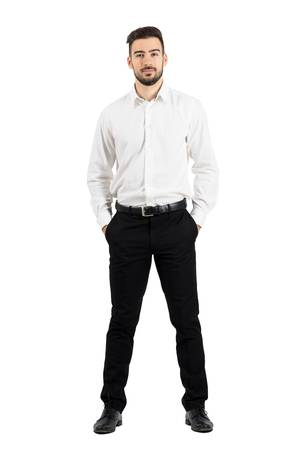F_belt: (115, 203, 190, 217)
F_dress pants: (102, 203, 209, 403)
F_shirt: (85, 80, 220, 228)
